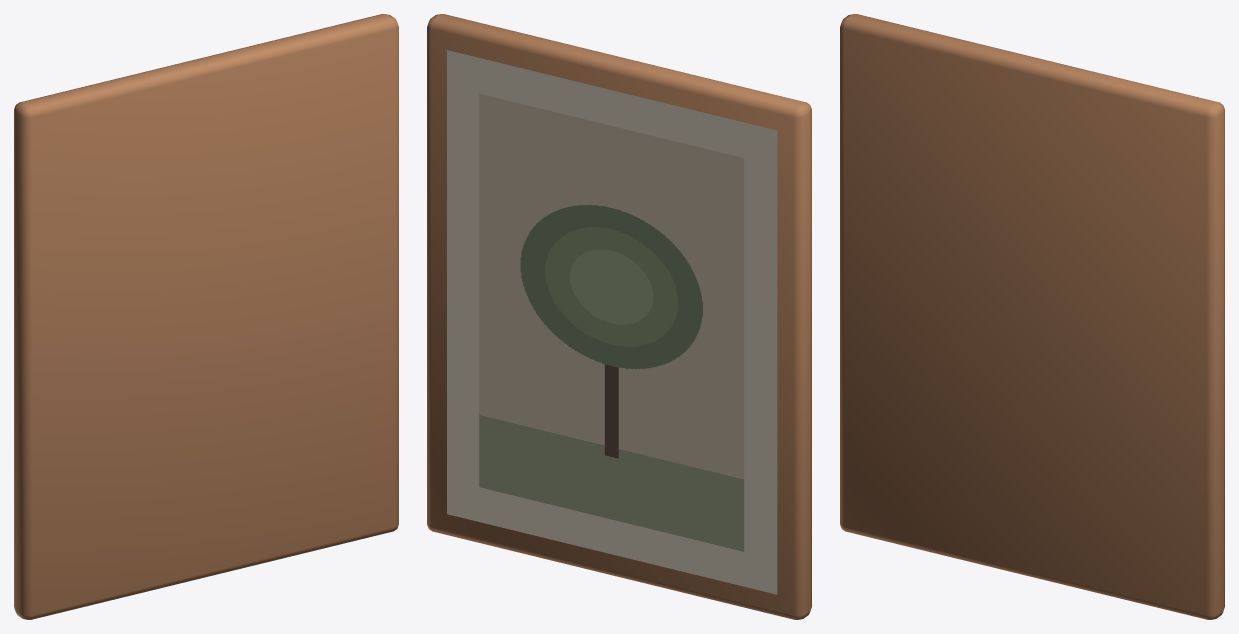
File: senior_frame_1.glb
The picture shows the model from 3 angles, left to right: view 1: azimuth 30°, elevation 25°; view 2: azimuth 150°, elevation 25°; view 3: azimuth 330°, elevation 25°; orthographic projection.
Visible parts, largest first — view 1: senior_frame_1__WoodWarm; view 2: senior_frame_1, senior_frame_1__WoodWarm; view 3: senior_frame_1__WoodWarm.
Boxes of the visible parts, <box> form: senior_frame_1__WoodWarm: <box>14,14,398,619</box>; senior_frame_1: <box>447,50,777,594</box>; senior_frame_1__WoodWarm: <box>427,14,811,619</box>; senior_frame_1__WoodWarm: <box>840,14,1224,619</box>.
Bounding box in the file's own units: 0.4 × 0.52 × 0.0265.
2 materials, 1 textured.
